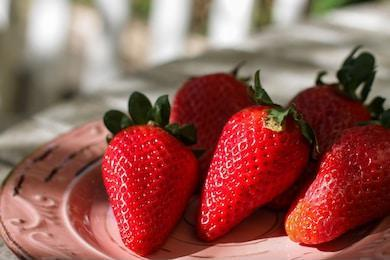Fresa: (189, 100, 319, 247), (93, 116, 204, 260), (281, 119, 390, 249)
